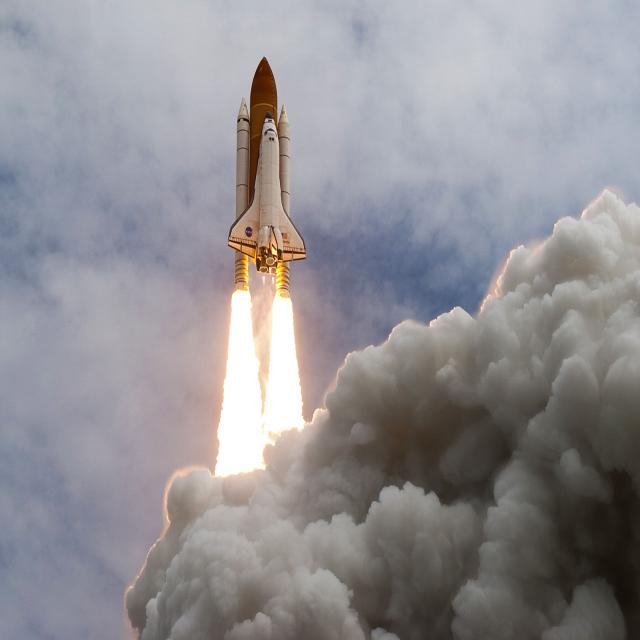large_debris: (5, 55, 206, 278)
medium_debris: (207, 273, 320, 490)
rocket: (204, 110, 311, 281)
